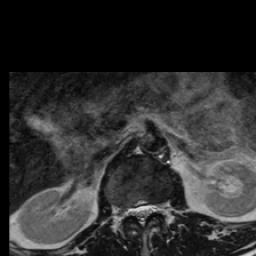CCS_normal: (138, 199, 145, 231)
LFS_normal: (154, 196, 161, 218)
LLS_normal: (145, 198, 153, 223)
RFS_normal: (123, 199, 131, 222)
RLS_normal: (131, 199, 138, 223)
